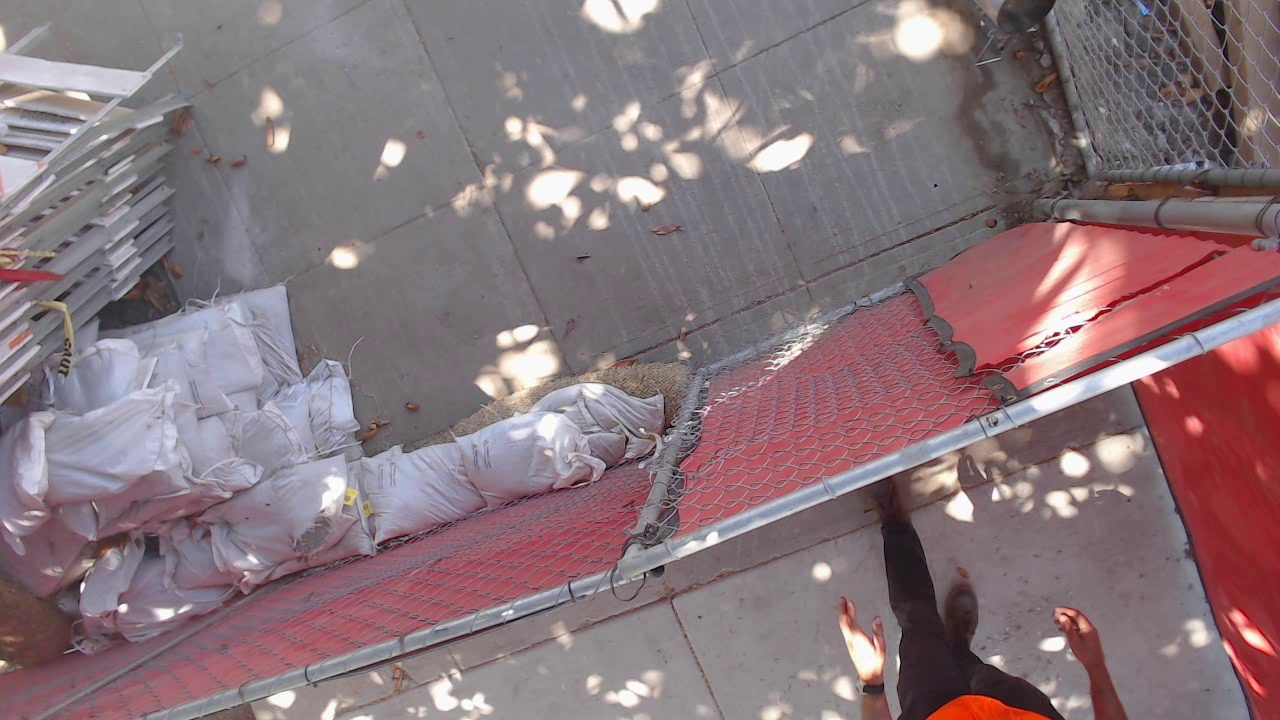person: (837, 503, 1132, 720)
safetyvest: (924, 694, 1053, 720)
